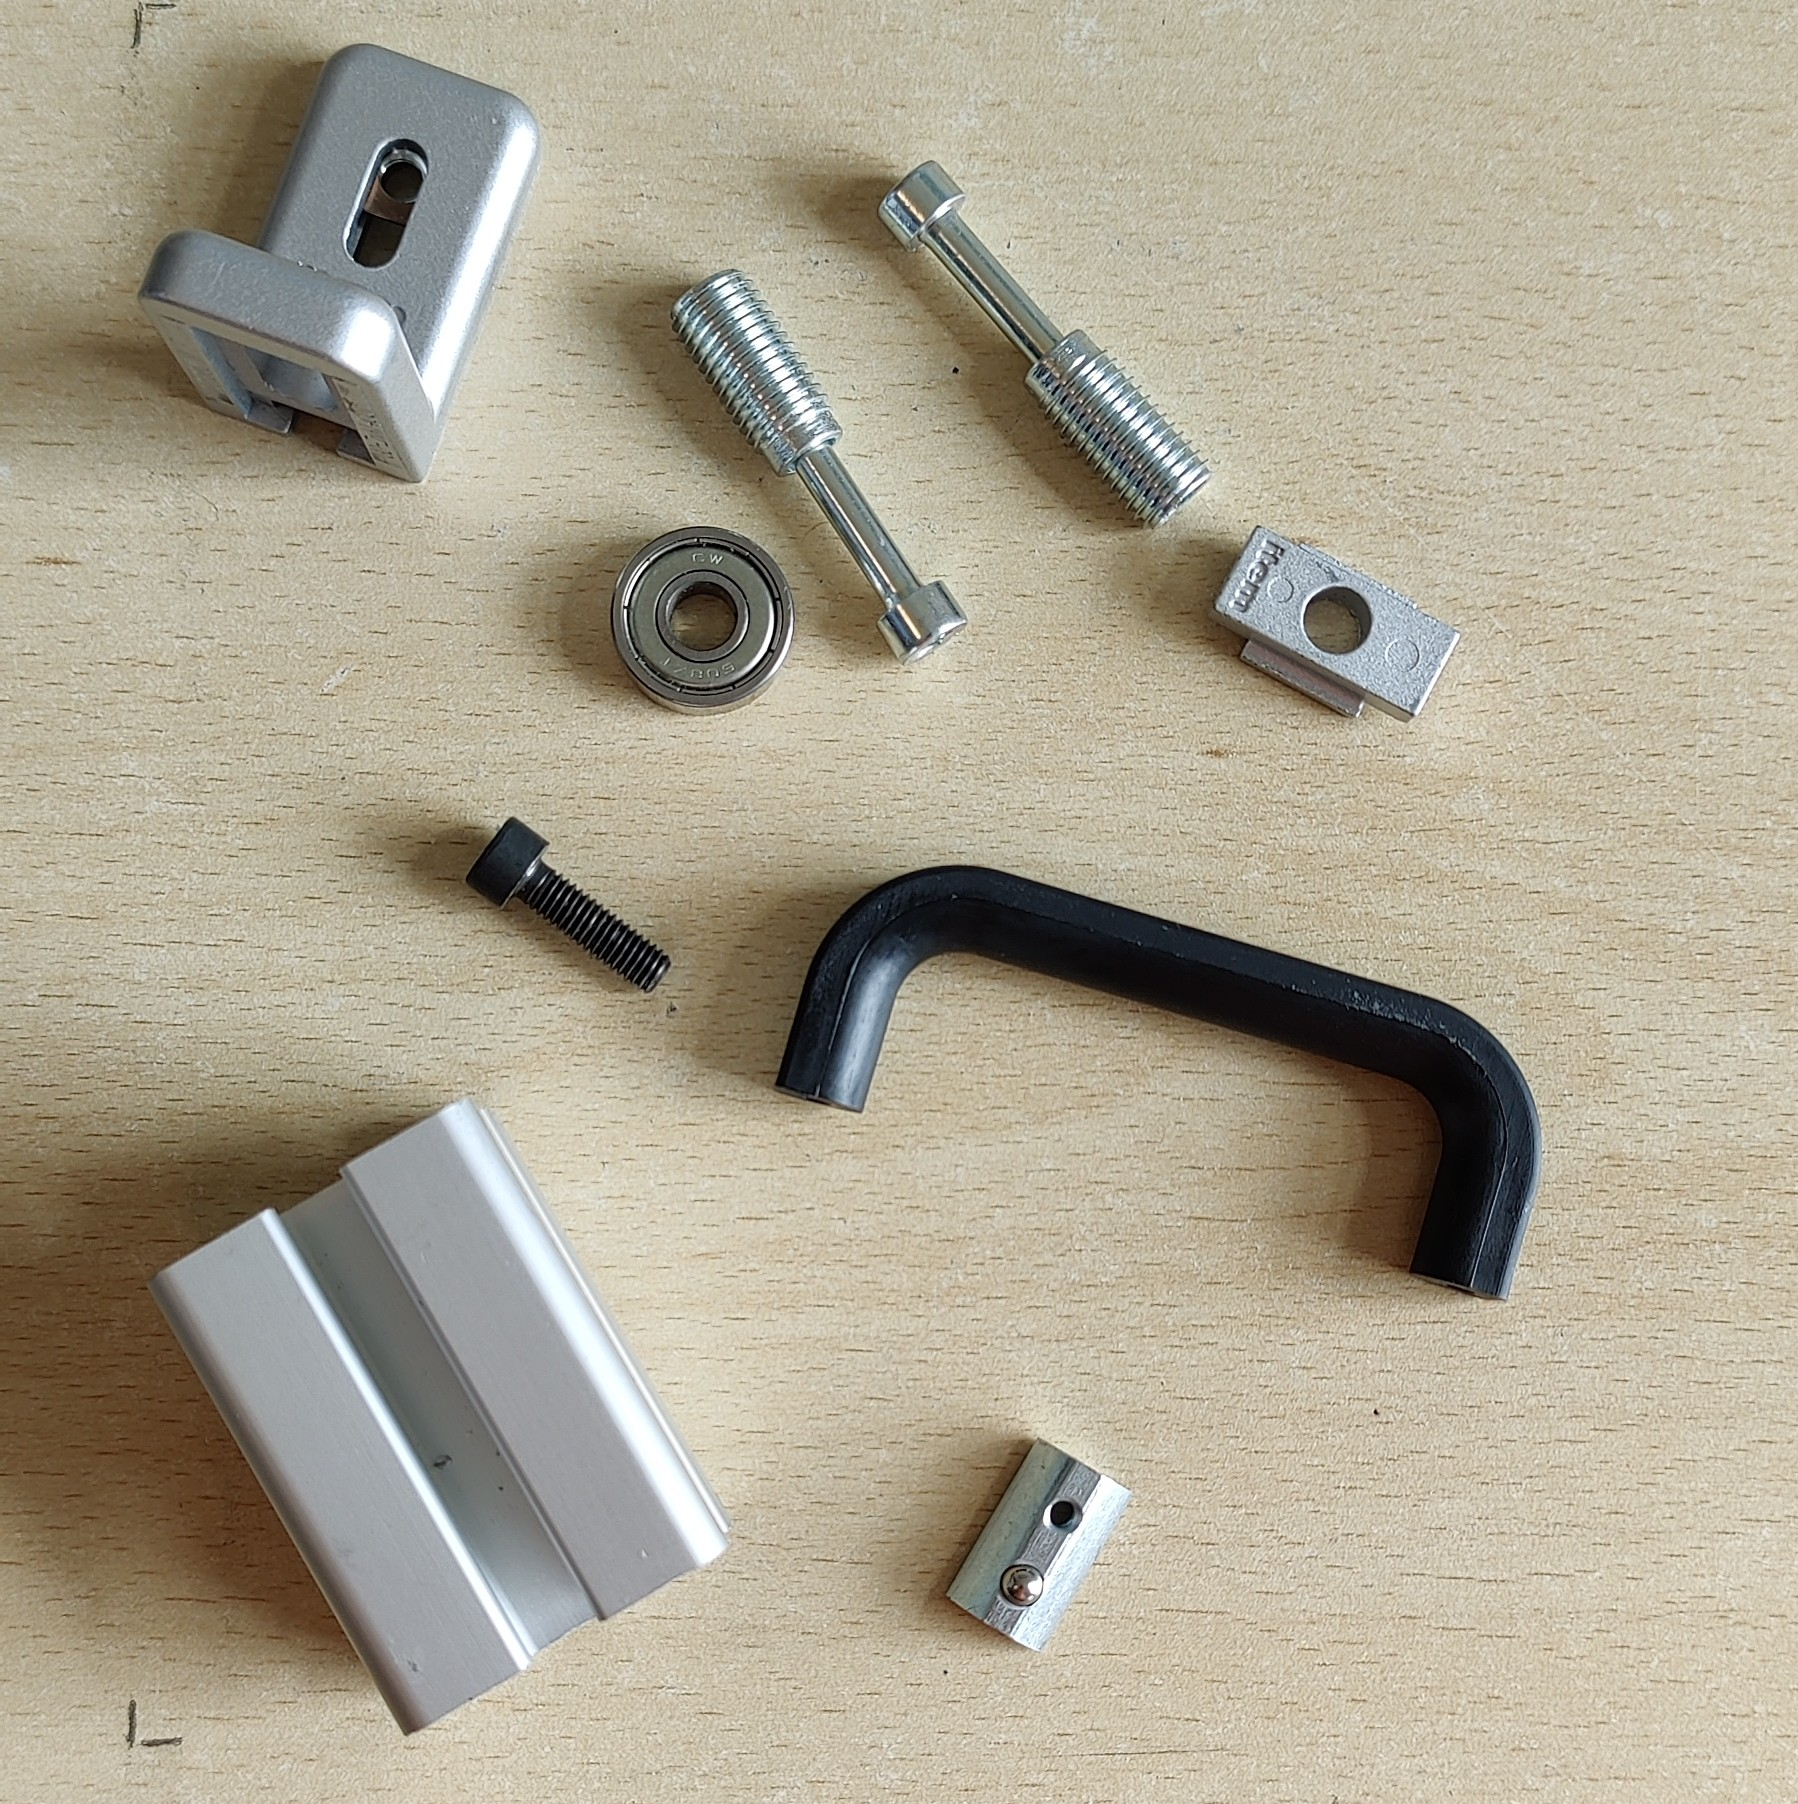Aluminium Extension: (142, 1093, 734, 1735)
Ball Bearing: (608, 523, 799, 718)
Multiwinkel: (135, 40, 542, 484)
Pull Handle: (771, 862, 1544, 1302)
Shoulder Socket Head Cap Screw: (874, 156, 1215, 533), (665, 263, 971, 668)
Socket Head Cap Screw: (459, 813, 673, 1001)
T Nut Square: (1204, 520, 1465, 728)
T Spring Nut: (943, 1435, 1134, 1654)
